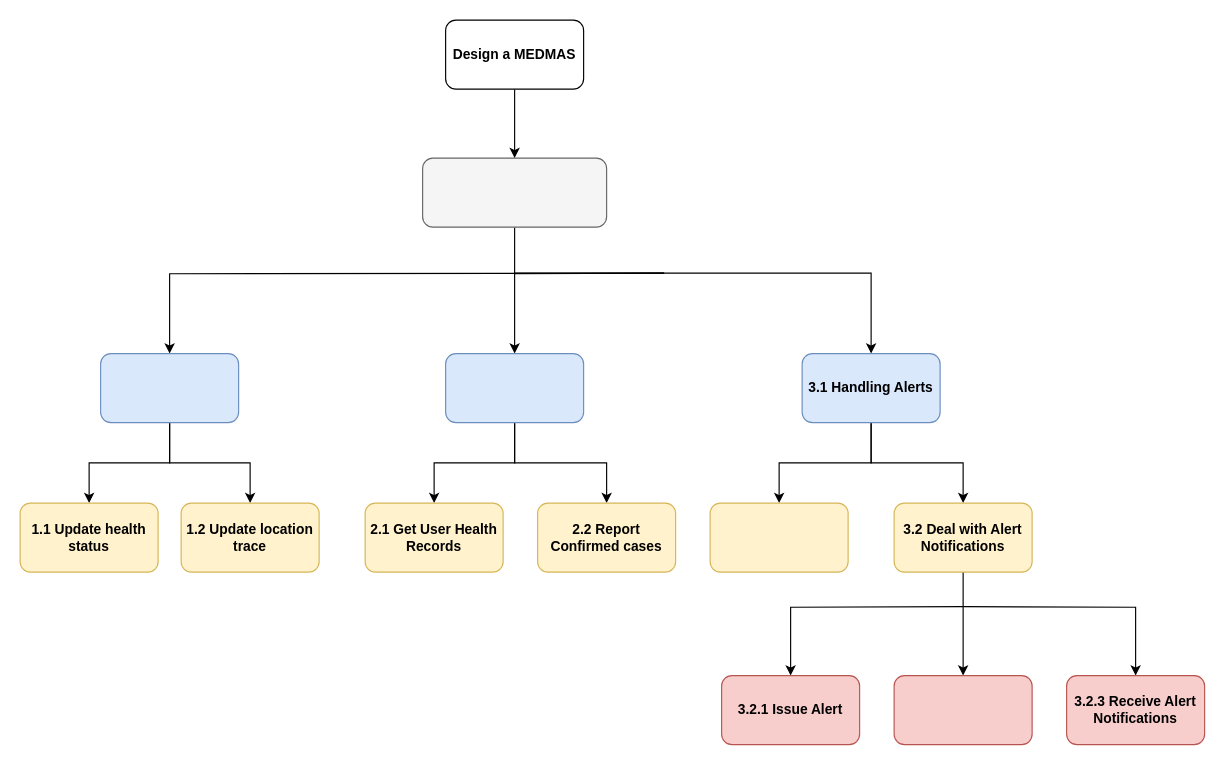
This 1225x765 diagram has some shape labels left out. The shapes that lost their labels are listed below. From the top down, each one's box as (x1, y1, x2, y2) in pixels, then its label:
(421, 157, 607, 227): Detect and Alarm health risks
(99, 352, 239, 423): 1. Update personal info.
(444, 352, 584, 423): 2. Detect confirmed cases
(709, 502, 848, 572): 3.1 Get New Confirmed Cases
(893, 674, 1032, 745): 3.2.2 Push Alert Notifications
